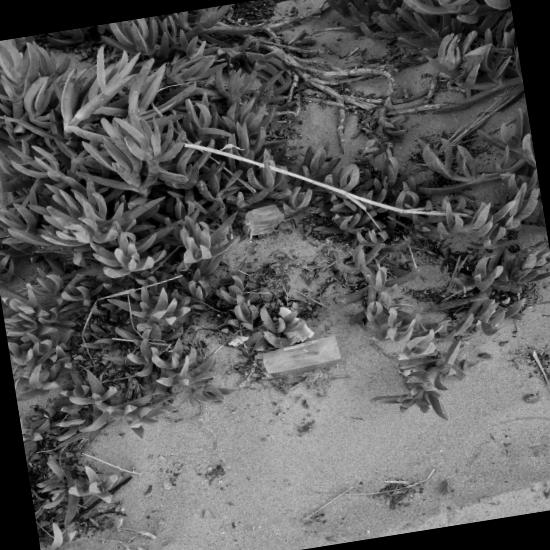Plastic film: (263, 335, 340, 373), (243, 204, 292, 239)
Styrofoam piece: (283, 318, 314, 342), (277, 306, 300, 326), (228, 335, 249, 346)
